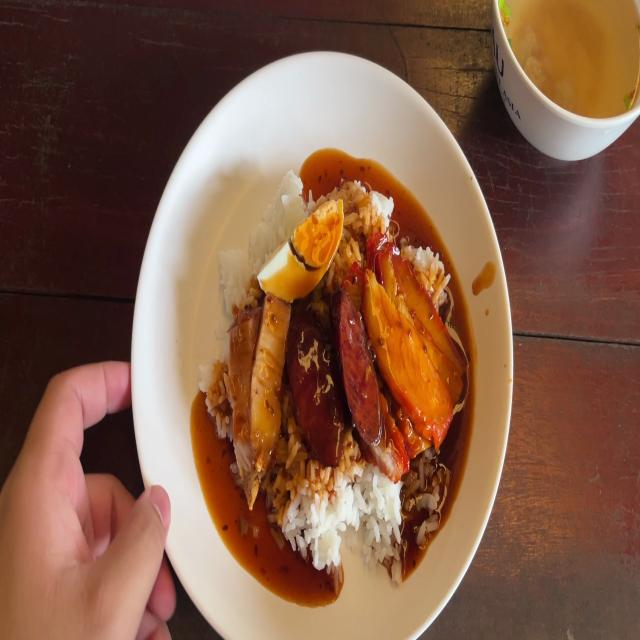01boiled_egg: (260, 200, 340, 290)
01chainese_sausage: (290, 292, 384, 460), (284, 301, 343, 446), (338, 303, 382, 434)
01crispy_pork: (227, 302, 290, 481), (254, 308, 289, 434), (229, 302, 249, 485)
01red_pork: (363, 245, 463, 423), (371, 290, 441, 424), (398, 260, 457, 379)
01red_pork_and_crispy_pork: (199, 174, 472, 587)
01rice: (273, 458, 447, 570), (216, 240, 255, 304), (346, 174, 387, 234)
